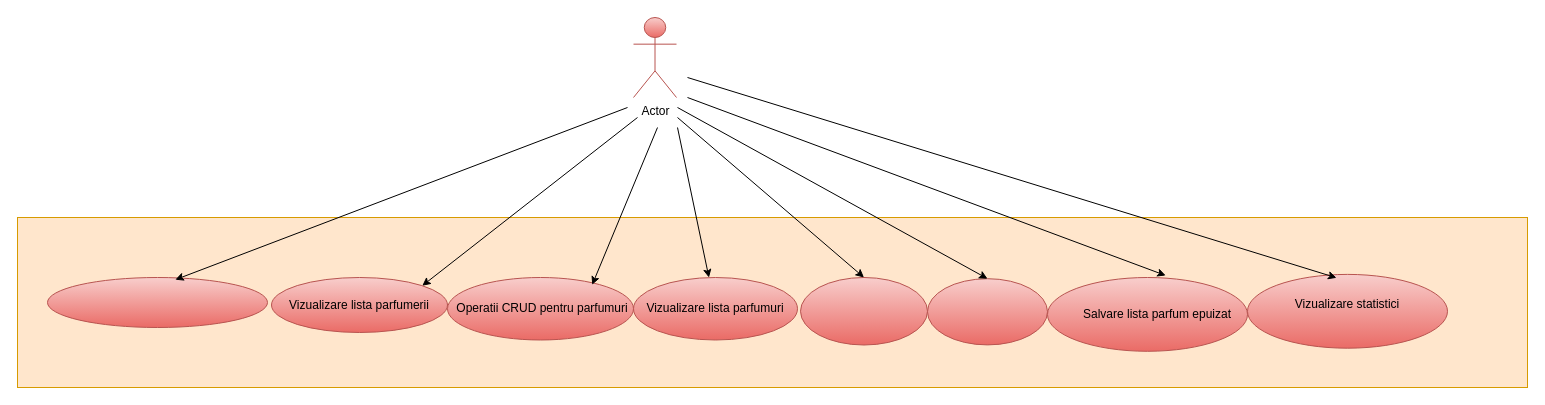
The diagram is 1545 pixels wide and 405 high, and some of its shapes have lost their labels. Here are the shapes that lost their labels. From the top down, the centre of each, then its label:
At (157,302): "Operatii CRUD pentru parfumerii".
At (864,310): "Filtrare parfumuri".
At (987,311): "Cautare parfum".
